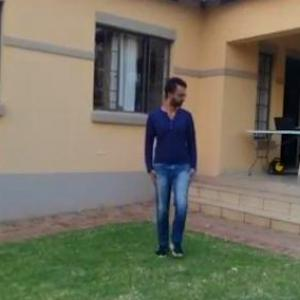follow: (147, 72, 201, 261)
